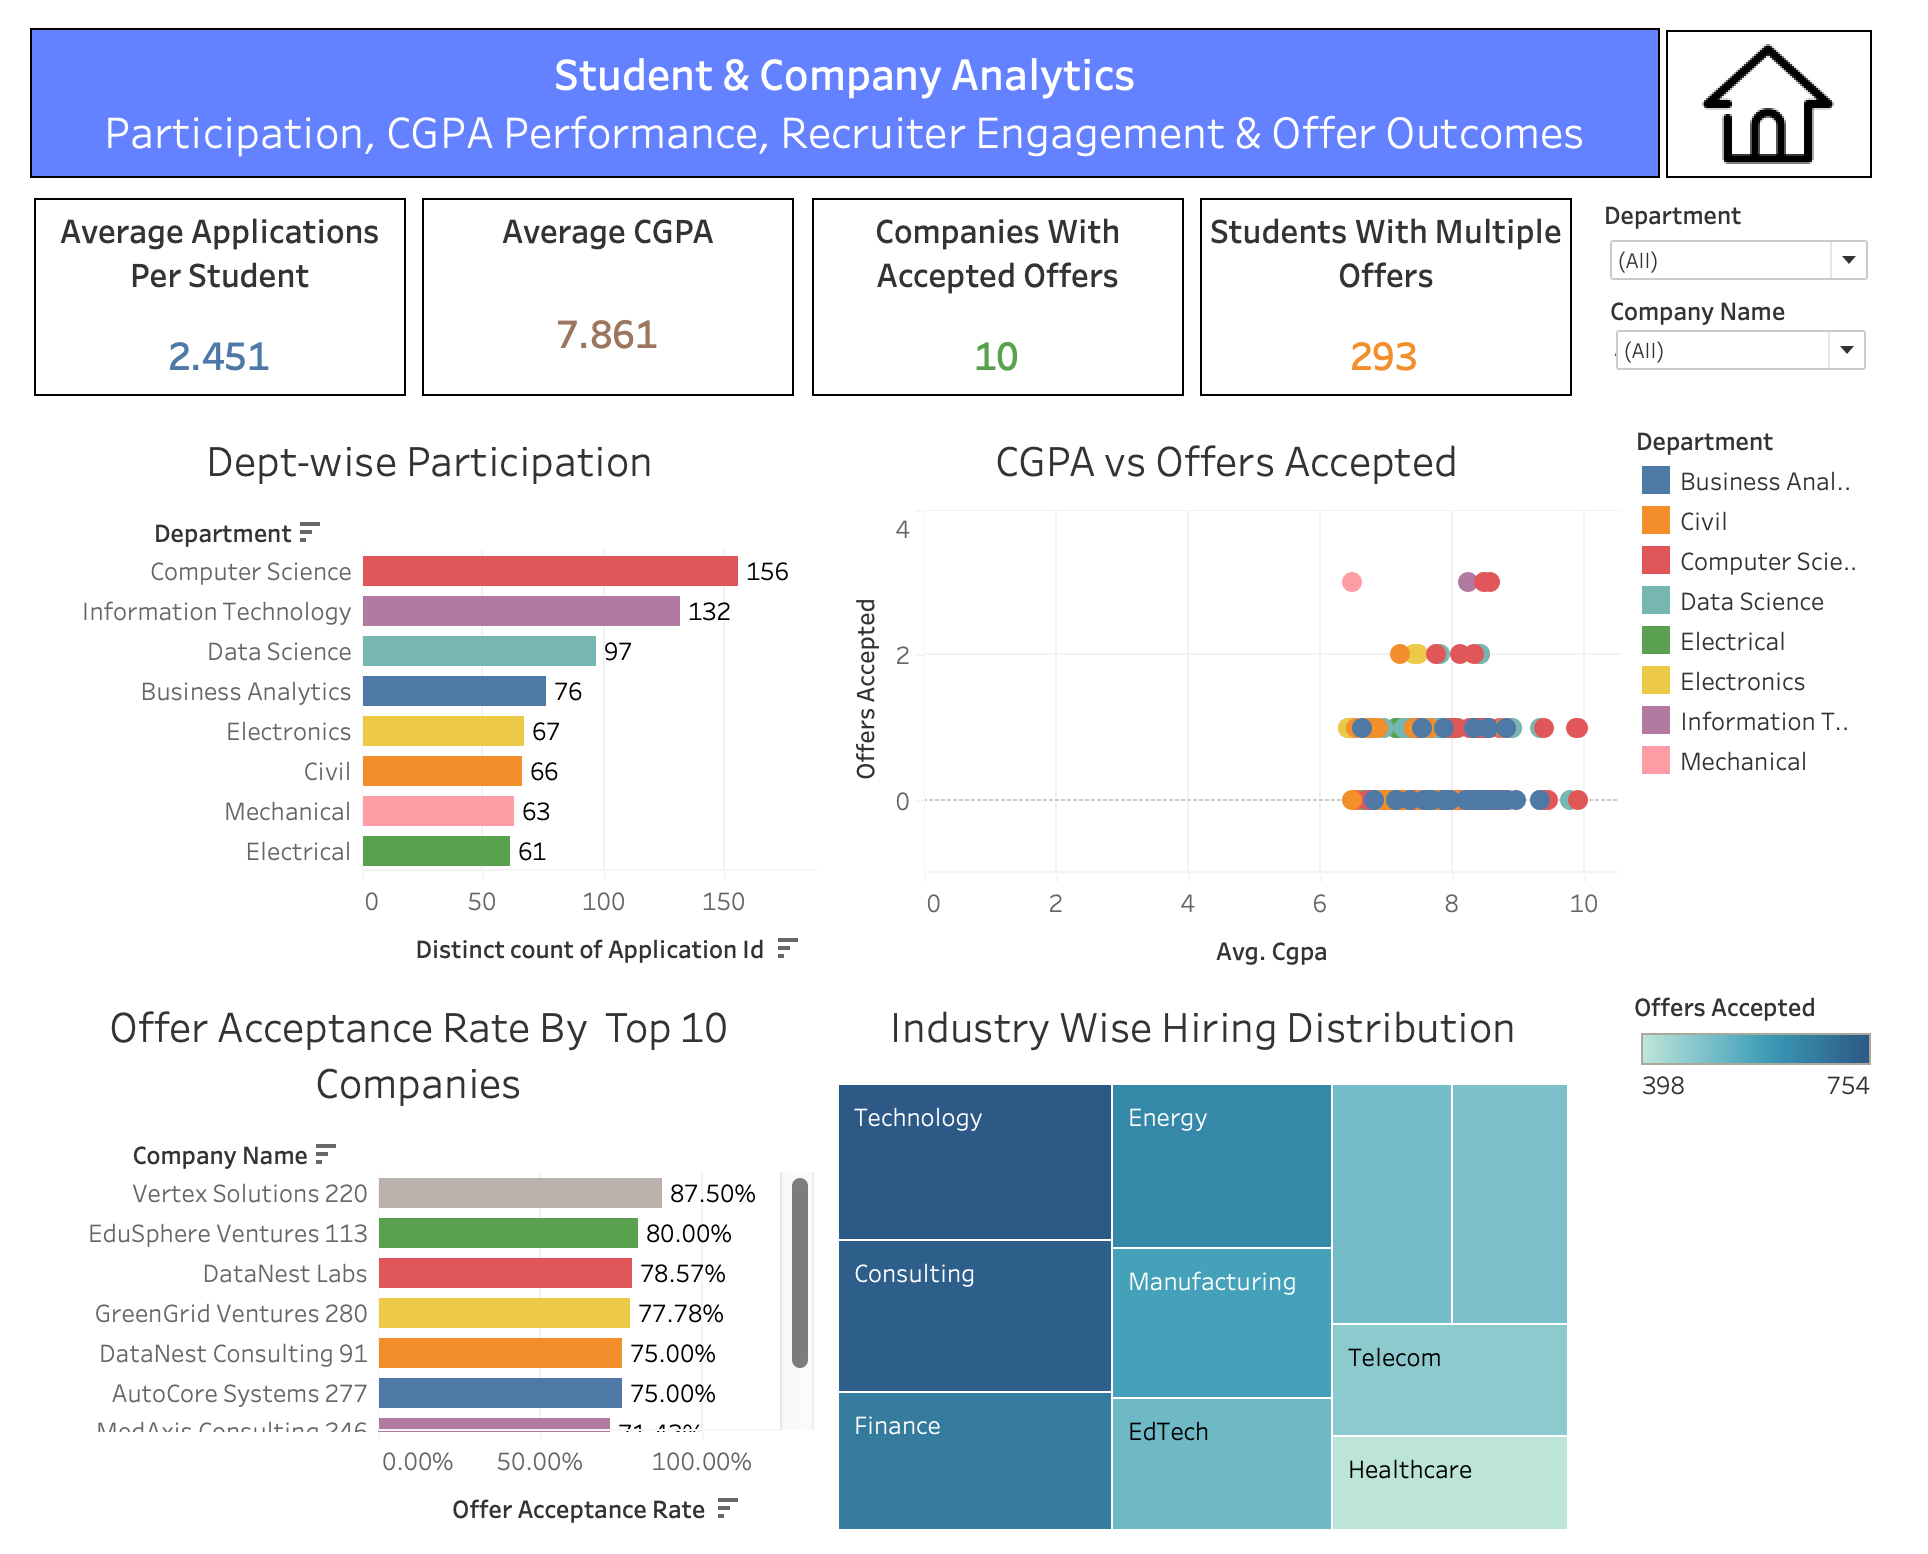

This screenshot's page, from the dashboard's own definition file:
{"tool":"tableau","page":{"name":"Dashboard 2: Student & Company Analytics","canvas":[1000,800],"ordinal":1},"visuals":[{"type":"text","box":[33,33,815,75]},{"type":"dashboard-object","box":[851,34,103,74]},{"type":"worksheet","title":"2.1 Average Applications per student","mark":"Automatic","box":[31,114,194.2,107]},{"type":"worksheet","title":"2.2 Average CGPA","mark":"Automatic","box":[225.2,114,194.2,107]},{"type":"worksheet","title":"2.3 Companies with accepted offers","mark":"Automatic","box":[419.5,114,194.2,107]},{"type":"worksheet","title":"2.4 students with multiple offers","mark":"Automatic","box":[613.8,114,194.2,107]},{"type":"filter","title":"2.11 Dept-wise participation","param":"[federated.04u47211r3l3801akdy7t0svqm7r].[none:department:nk]","box":[820,118,168,55]},{"type":"filter","title":"2.15 Offer acceptance rate by company","param":"[federated.04u47211r3l3801akdy7t0svqm7r].[none:company_name:nk]","box":[823,166,162,46]},{"type":"worksheet","title":"2.11 Dept-wise participation","mark":"Automatic","rows":["department"],"cols":["application_id"],"box":[35,227,396,287]},{"type":"worksheet","title":"2.13 CGPA vs Offers accepted","mark":"Circle","rows":["Calculation_2897160006139905"],"cols":["cgpa"],"box":[431,227,401,287]},{"type":"legend","title":"2.13 CGPA vs Offers accepted","param":"[federated.04u47211r3l3801akdy7t0svqm7r].[none:department:nk]","box":[832,227,123,287]},{"type":"worksheet","title":"2.15 Offer acceptance rate by company","mark":"Automatic","rows":["company_name"],"cols":["Calculation_2897160006529029"],"box":[43,510,386,283]},{"type":"worksheet","title":"2.16 Industry wise hiring distribution","mark":"Automatic","box":[429,510,402,283]},{"type":"legend","title":"2.16 Industry wise hiring distribution","param":"[federated.04u47211r3l3801akdy7t0svqm7r].[sum:Calculation_2897160006139905:qk]","box":[831,510,131,283]}]}

Visuals, with their boxes in screenshot pixels (x1, y1, x2, y2), scaled from the page's 1000x800 canvas onto the 1928x1554 screenshot:
text: 64:64:1635:210
dashboard-object: 1641:66:1839:210
"2.1 Average Applications per student" worksheet: 60:221:434:429
"2.2 Average CGPA" worksheet: 434:221:809:429
"2.3 Companies with accepted offers" worksheet: 809:221:1183:429
"2.4 students with multiple offers" worksheet: 1183:221:1558:429
"2.11 Dept-wise participation" filter: 1581:229:1905:336
"2.15 Offer acceptance rate by company" filter: 1587:322:1899:412
"2.11 Dept-wise participation" worksheet: 67:441:831:998
"2.13 CGPA vs Offers accepted" worksheet (Circle marks): 831:441:1604:998
"2.13 CGPA vs Offers accepted" legend: 1604:441:1841:998
"2.15 Offer acceptance rate by company" worksheet: 83:991:827:1540
"2.16 Industry wise hiring distribution" worksheet: 827:991:1602:1540
"2.16 Industry wise hiring distribution" legend: 1602:991:1855:1540
